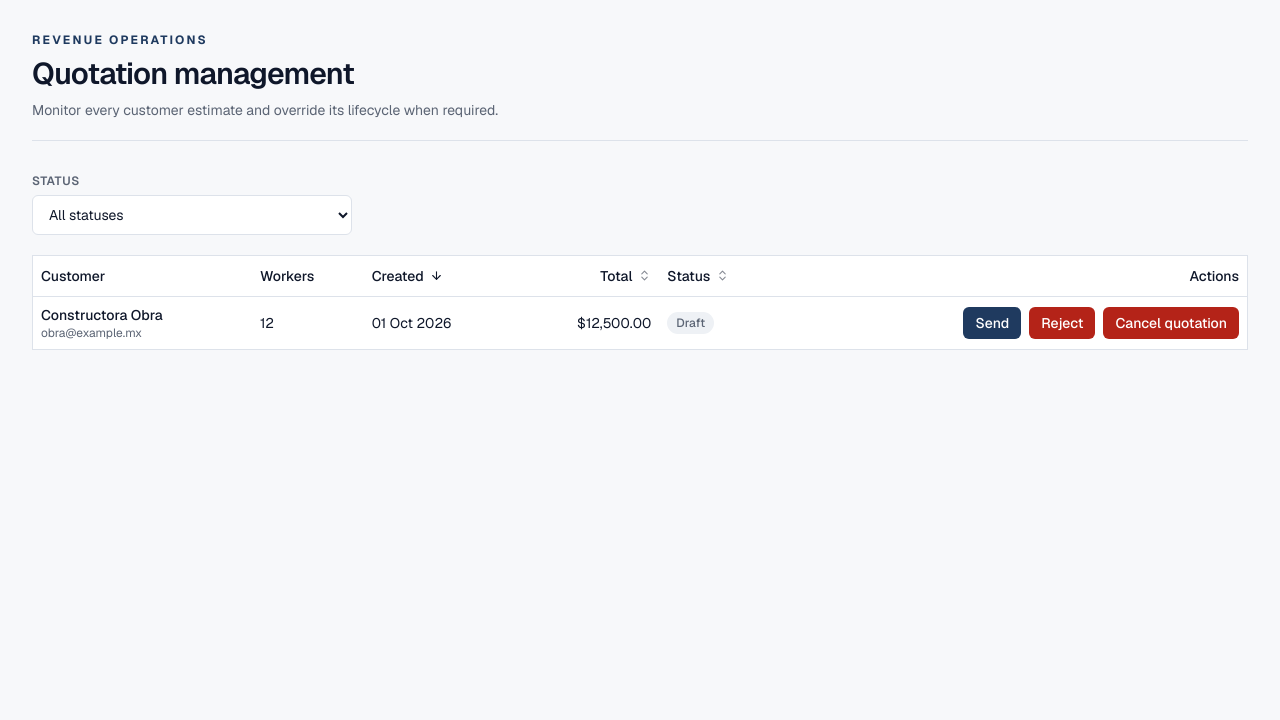
it: admin quotations, on the shared components › keeps a rejected transition visible in the dialog and raises no toast
Expected: the text "Constructora Obra" is shown, [41,306,163,324]
Click the button "Send".
click(992, 322)  # box [963,306,1021,338]
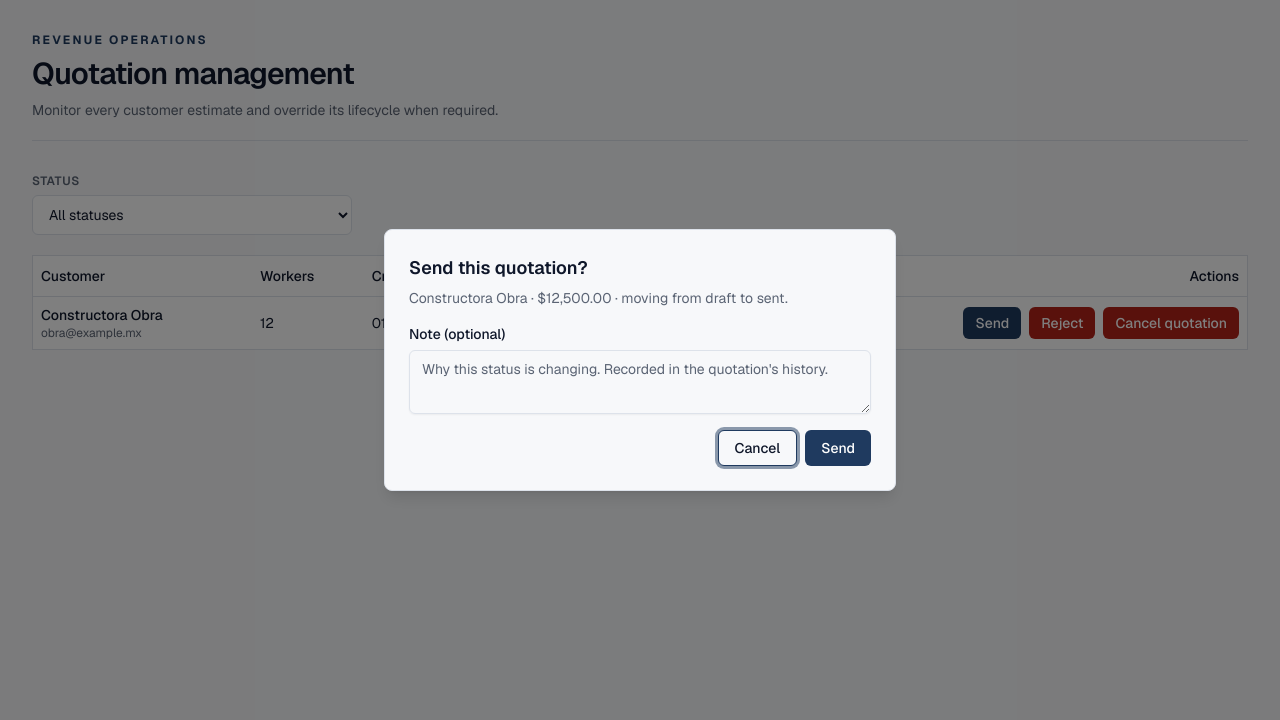
Click the button "Send".
click(838, 448)  # box [805,430,871,466]
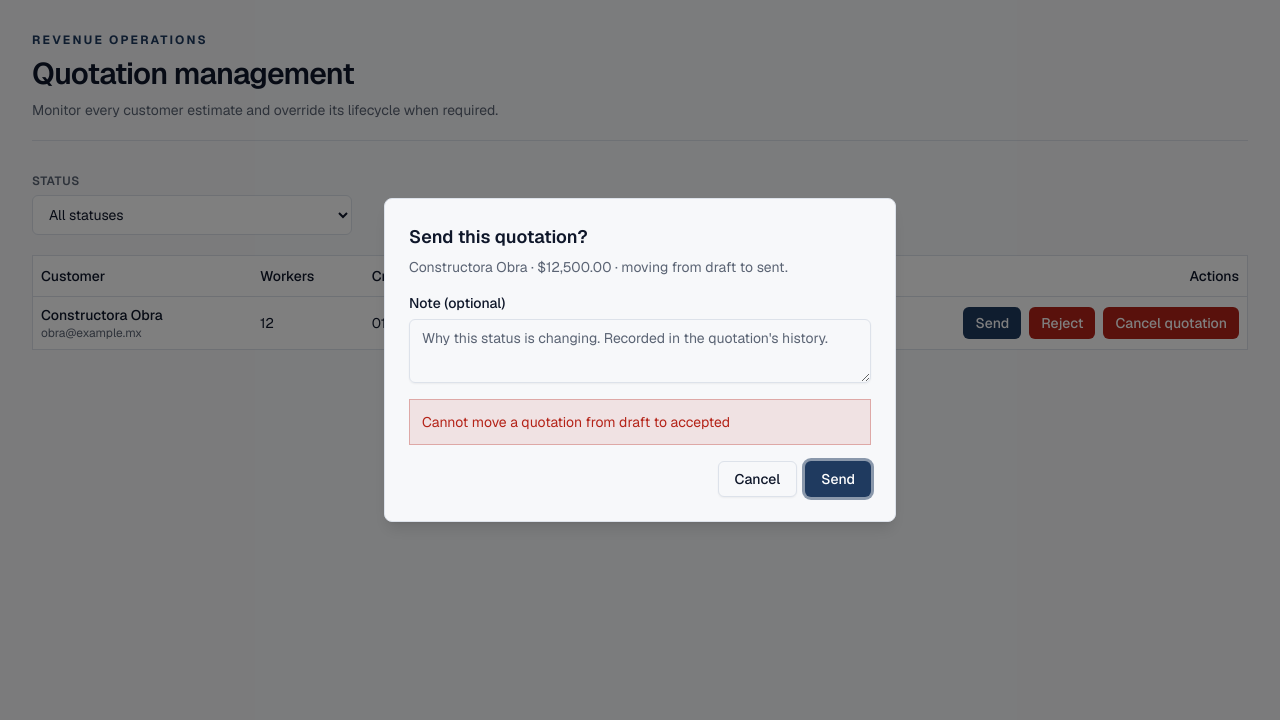
Expected: the heading "Send this quotation?" is shown, [409,223,588,251]
Expected: the message reads "Cannot move a quotation from draft to accepted", [422,413,730,431]
